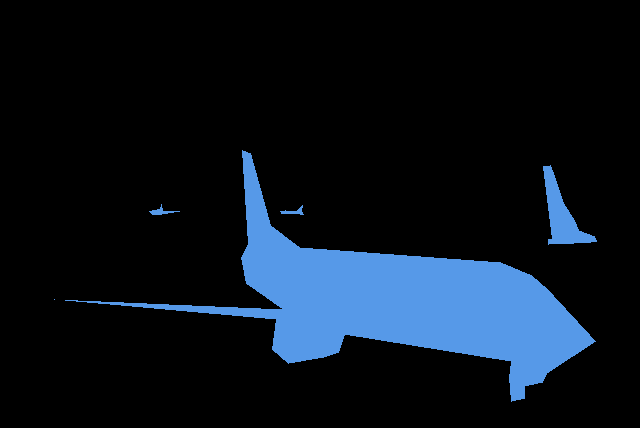Airplane: (54, 150, 595, 401), (543, 165, 597, 245), (149, 204, 179, 214), (280, 205, 303, 214)
